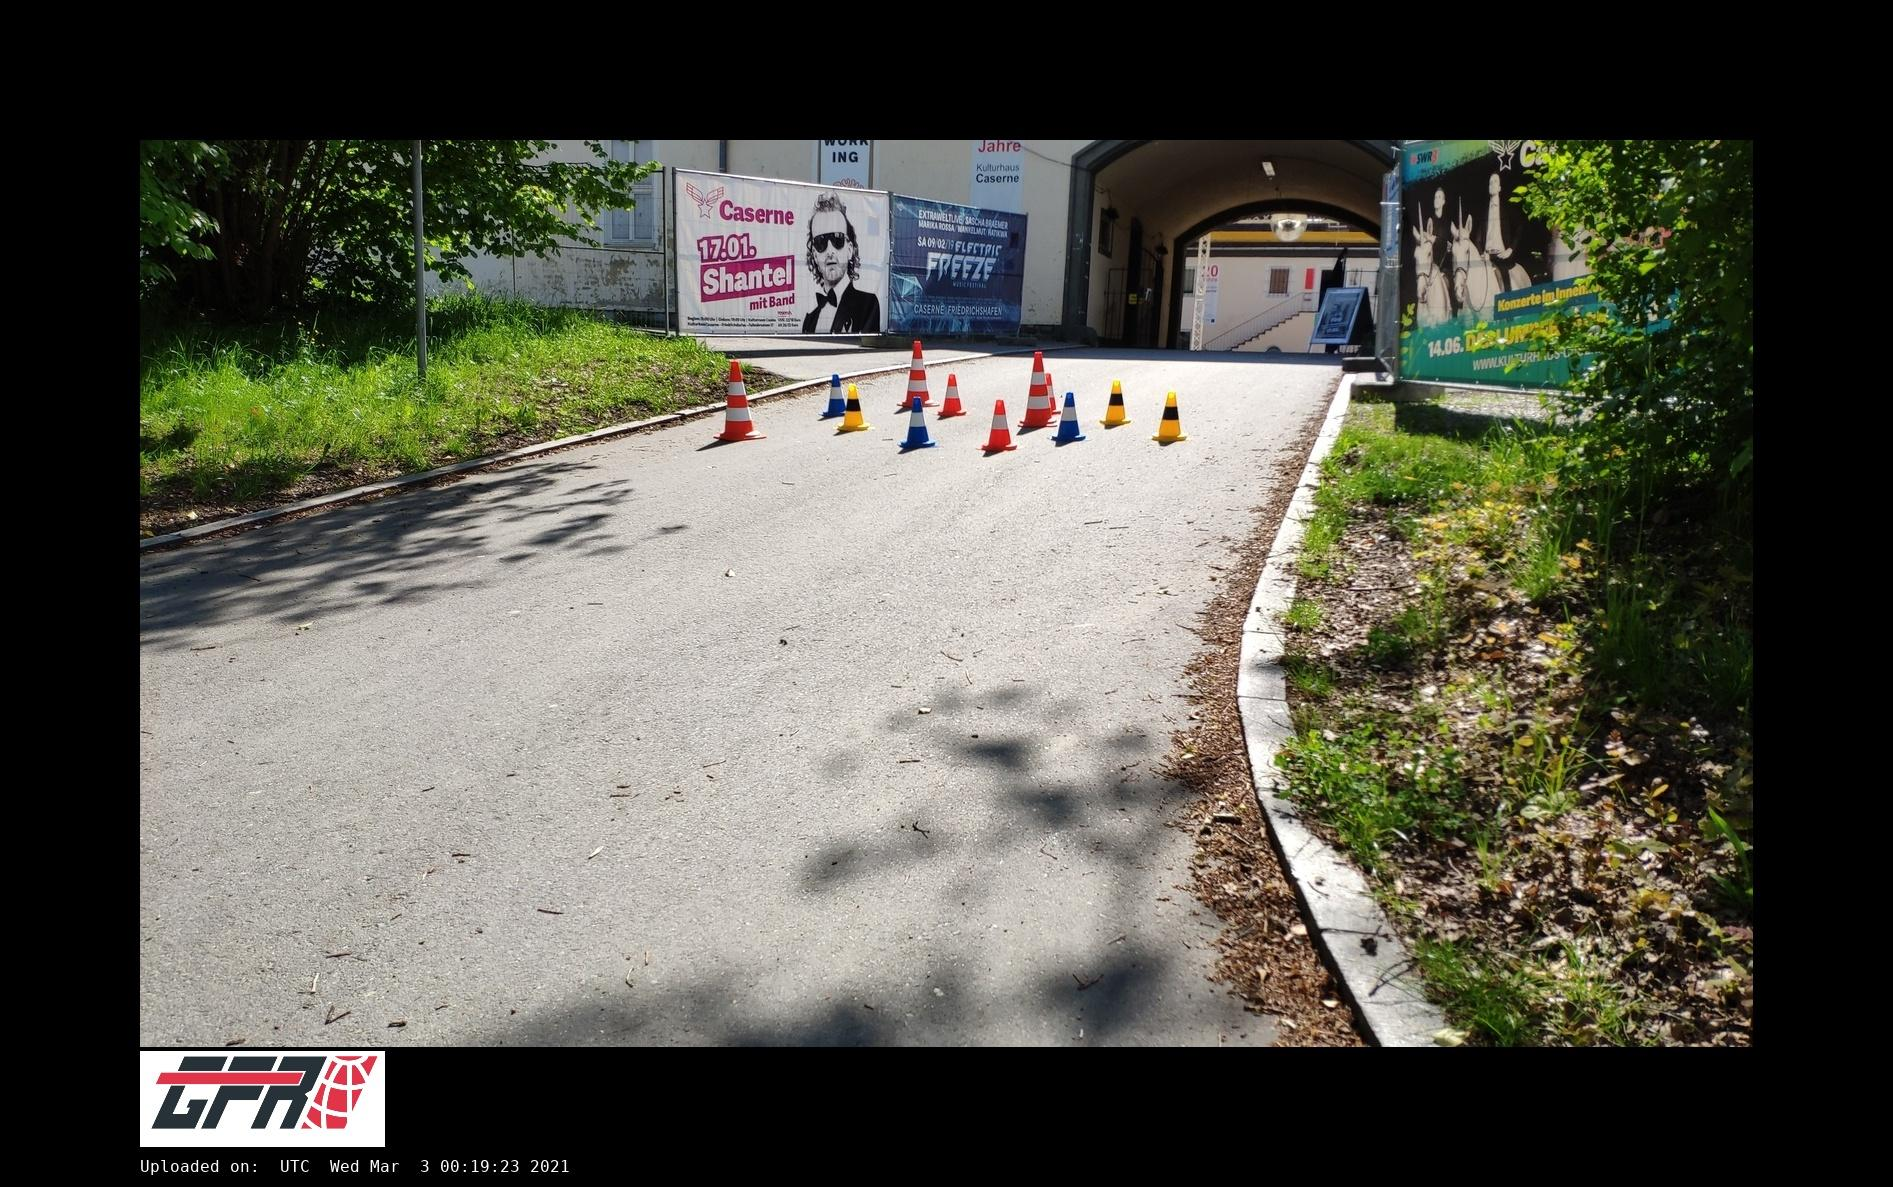blue_cone: (897, 397, 938, 449), (1051, 392, 1088, 440), (819, 373, 846, 417)
large_orange_cone: (713, 361, 767, 440), (897, 341, 940, 408), (1020, 351, 1057, 427)
orange_cone: (979, 401, 1017, 451), (938, 373, 966, 416), (1046, 368, 1061, 414)
yellow_cone: (835, 384, 871, 431), (1152, 392, 1186, 440), (1099, 382, 1130, 425)
